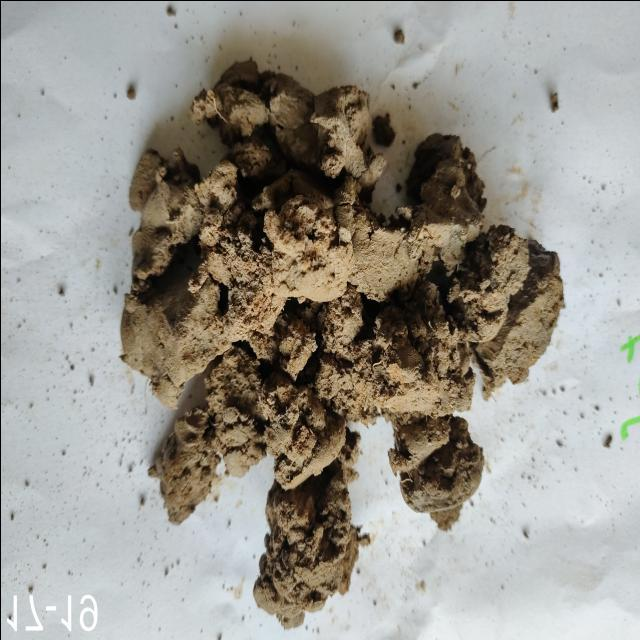soil: (198, 180, 446, 471)
